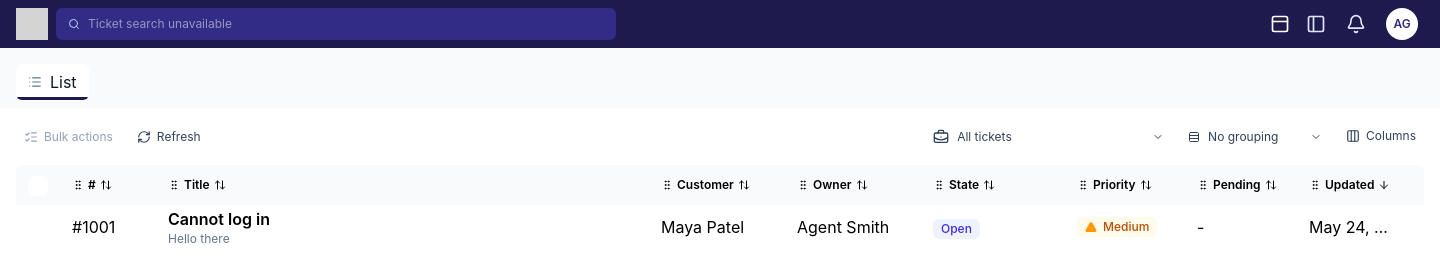
Test: TicketWorkspace saved views › shows unsupported saved views as disabled options
Click the dropdown named "Saved view".
click(1049, 136)  # box [925,124,1172,148]
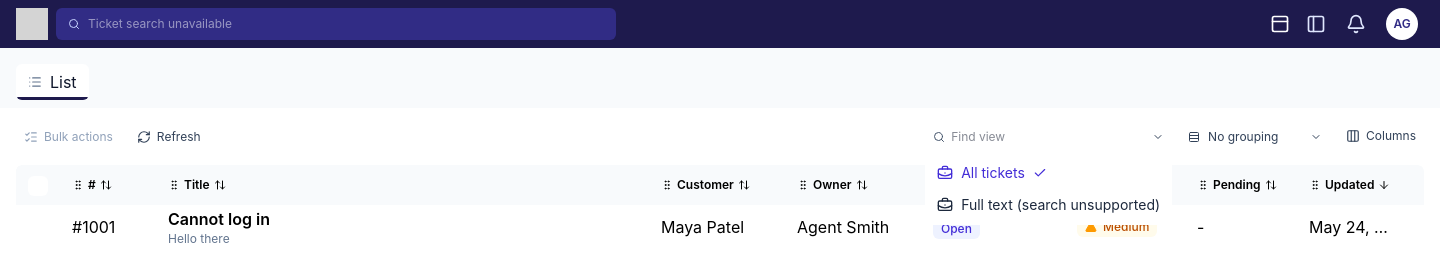
Check: the option "Full text (search unsupported)" is disabled, box [929,188,1168,220]
